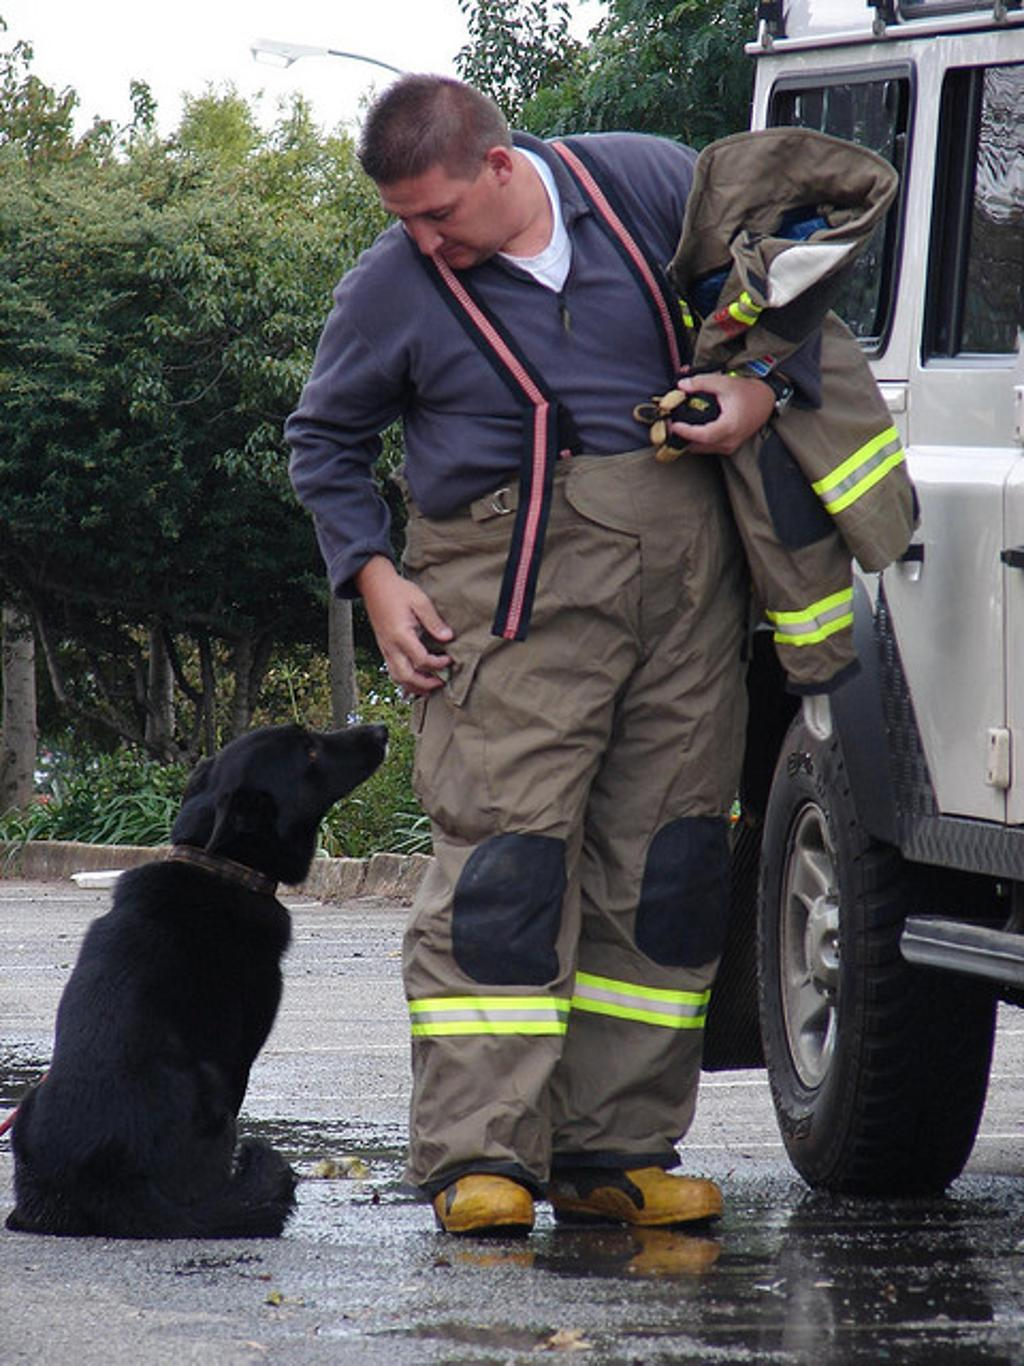face: (382, 172, 502, 271)
